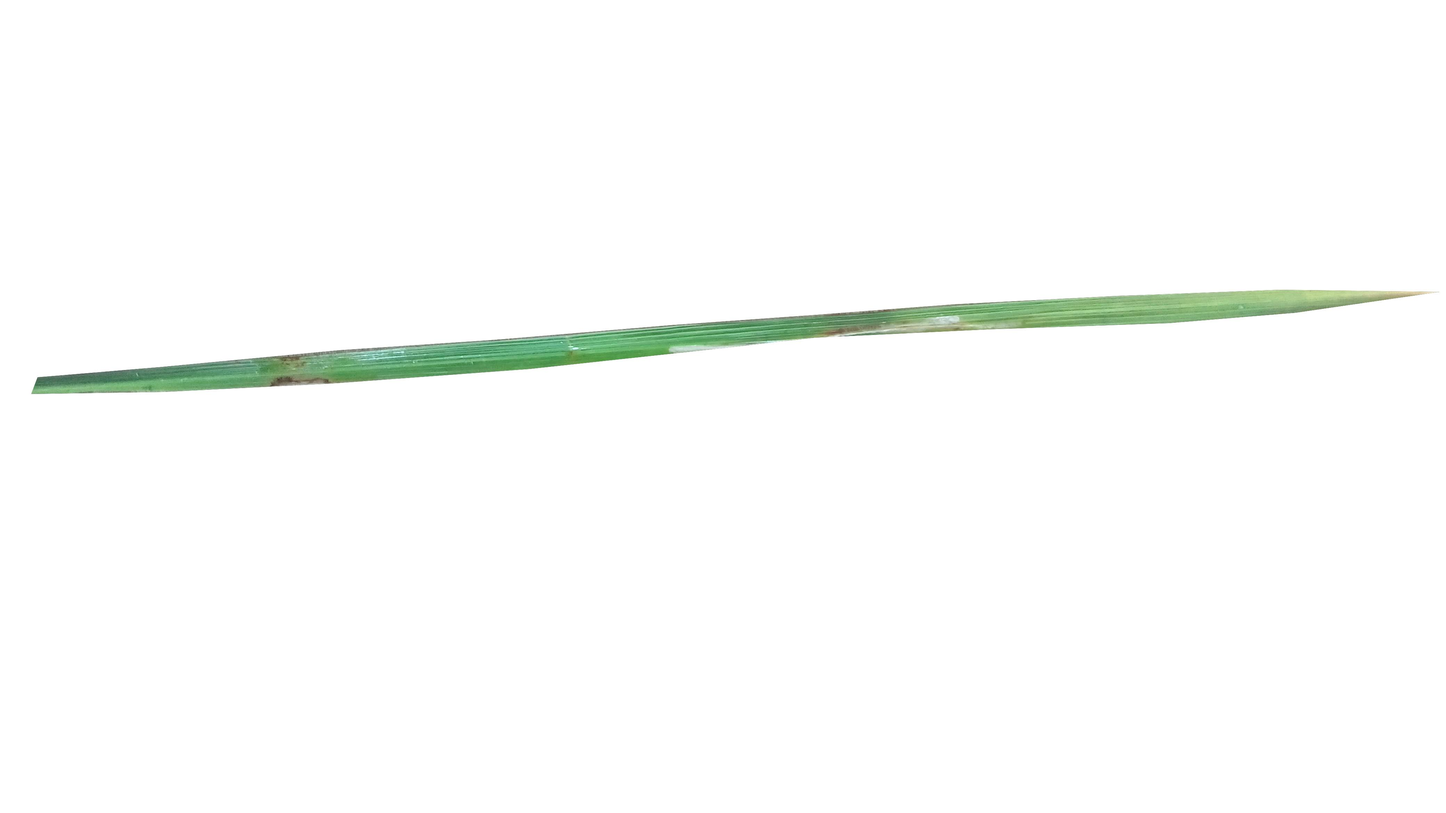Rice blast: (263, 357, 338, 388)
